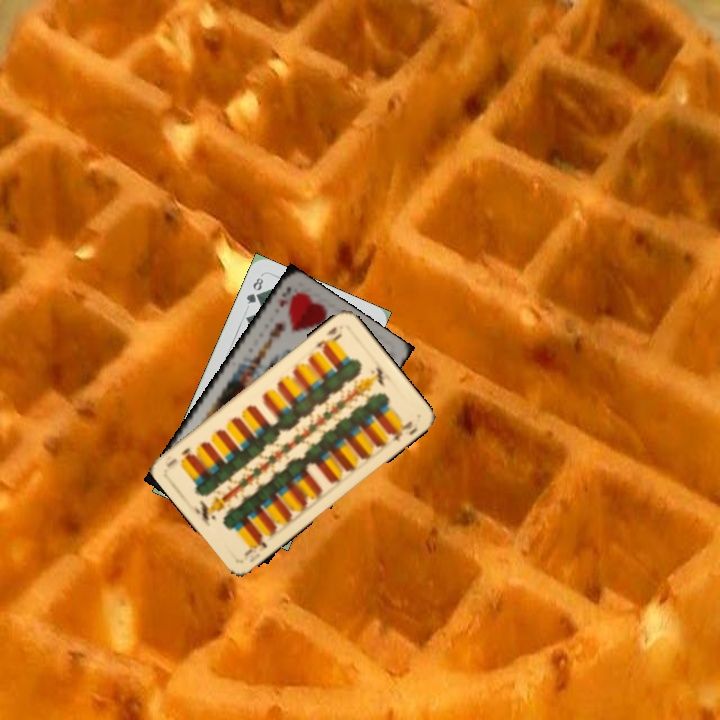E10: (310, 323, 344, 353), (241, 531, 270, 559)
G8: (242, 273, 266, 307)
HK: (275, 282, 294, 310)
